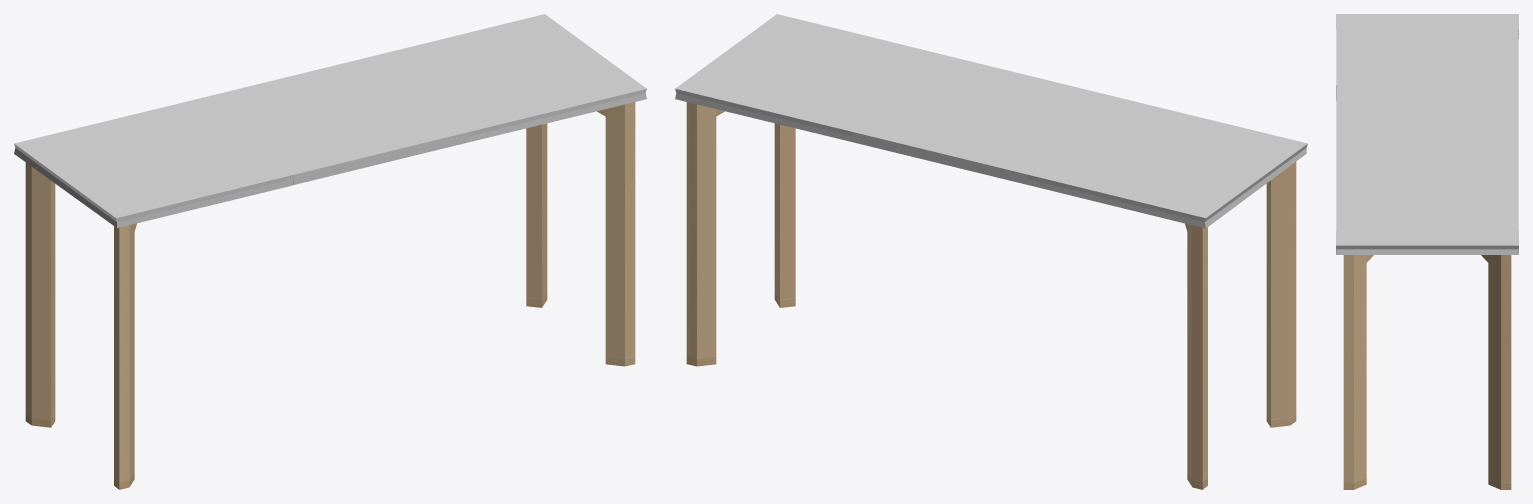
The model's file is modifytable.gltf.
3 views of the same model, side by side, from view 1: azimuth 30°, elevation 25°; view 2: azimuth 150°, elevation 25°; view 3: azimuth 270°, elevation 25° (orthographic). The views are drawn at different scales.
Parts seen in each view (by area): view 1: 3D desks (2); view 2: 3D desks (2); view 3: 3D desks (2).
Boxes of the visible parts, x1,y1,x2,y2 form: 3D desks (2): [14, 14, 646, 489]; 3D desks (2): [675, 14, 1307, 489]; 3D desks (2): [1336, 14, 1518, 489].
Size of the model in its own units: 5.85 by 2.91 by 1.95.
2 materials, 1 textured.
